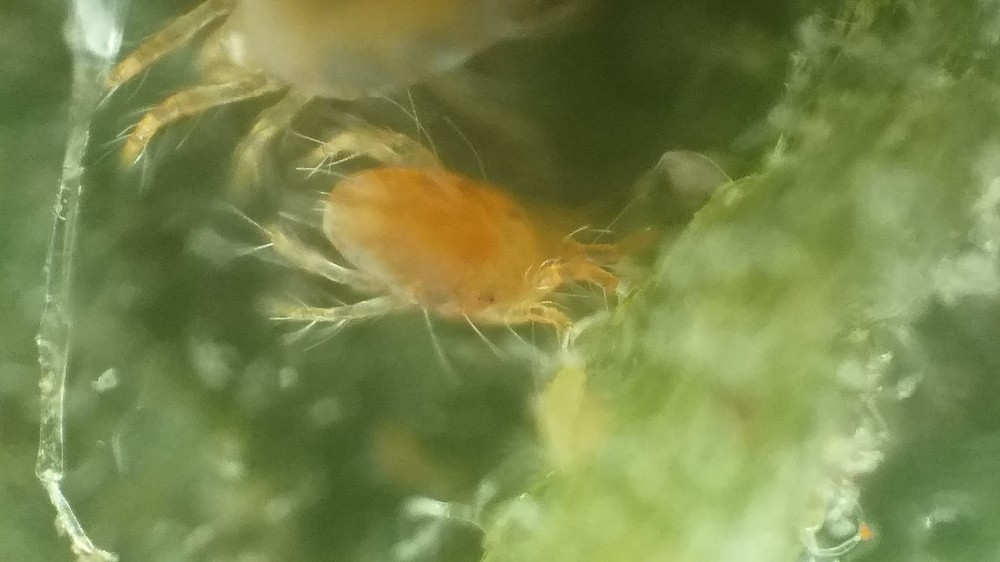Aracnido Rojo: (256, 127, 685, 383), (101, 1, 656, 180)
